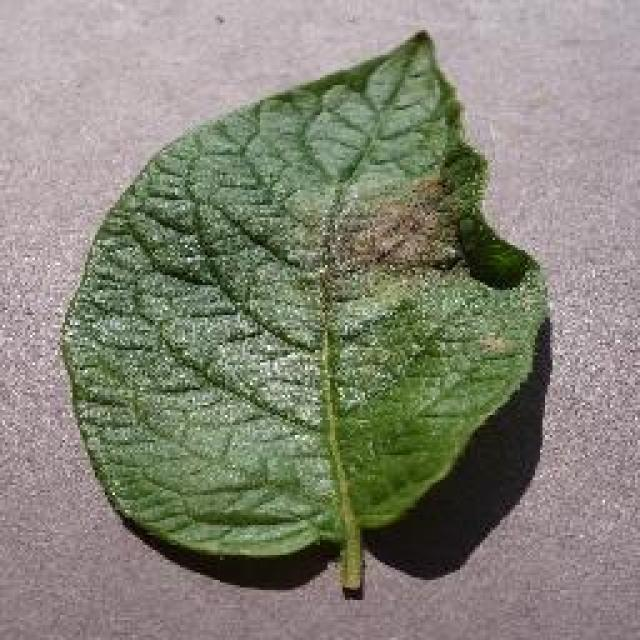late_blight: (55, 25, 553, 580)
